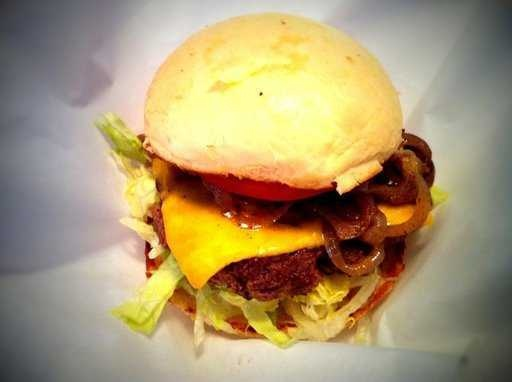hamburger: (121, 20, 438, 334)
